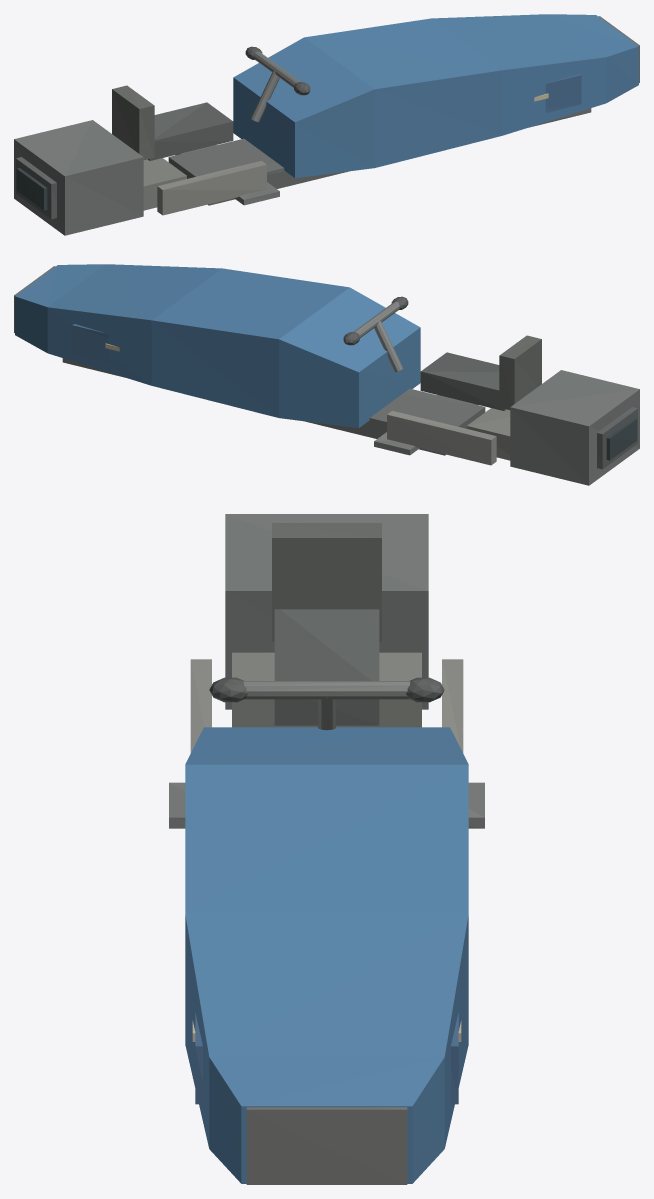
The model's file is spacebike_blue_off.glb.
3 renders of one model, top to bottom at view 1: azimuth 30°, elevation 25°; view 2: azimuth 150°, elevation 25°; view 3: azimuth 270°, elevation 25°, orthographic. The views are drawn at different scales.
Parts seen in each view (by area): view 1: forward_hull, rear_engine_block, cockpit_side_-0.47, seat_base, underside_spine, seat_back, rear_frame, side_panel_-0.47, exhaust_frame, exhaust_inner, steering_column, handlebars (+1 smaller); view 2: forward_hull, rear_engine_block, cockpit_side_0.47, seat_base, underside_spine, seat_back, rear_frame, side_panel_0.47, exhaust_frame, exhaust_inner, steering_column, handlebars (+1 smaller); view 3: forward_hull, rear_engine_block, nose_bulkhead, seat_base, seat_back, rear_frame, handlebars, cockpit_side_-0.47, cockpit_side_0.47.
Part boxes in pixels (x1,y1,x2,y2): forward_hull: (233,14,638,177); rear_engine_block: (14,120,143,235); cockpit_side_-0.47: (157,161,266,215); seat_base: (147,102,233,160); underside_spine: (168,108,591,205); seat_back: (112,85,154,159); rear_frame: (143,158,186,210); side_panel_-0.47: (545,74,581,112); exhaust_frame: (16,157,56,219); exhaust_inner: (16,168,47,210); steering_column: (250,70,279,122); handlebars: (254,51,300,87); forward_hull: (15,264,420,427); rear_engine_block: (510,370,639,485); cockpit_side_0.47: (387,411,496,465); seat_base: (420,352,506,410); underside_spine: (62,358,485,455); seat_back: (499,335,541,409); rear_frame: (467,408,510,460); side_panel_0.47: (72,324,108,362); exhaust_frame: (597,407,637,469); exhaust_inner: (606,418,637,460); steering_column: (374,320,403,372); handlebars: (353,301,399,337); forward_hull: (185,727,468,1183); rear_engine_block: (225,514,428,709); nose_bulkhead: (246,1107,407,1184); seat_base: (274,609,379,725); seat_back: (272,523,381,641); rear_frame: (232,652,421,727); handlebars: (243,681,410,699); cockpit_side_-0.47: (190,659,211,752); cockpit_side_0.47: (442,659,463,752).
Size of the model in its own units: 5.09 by 0.885 by 1.18.
